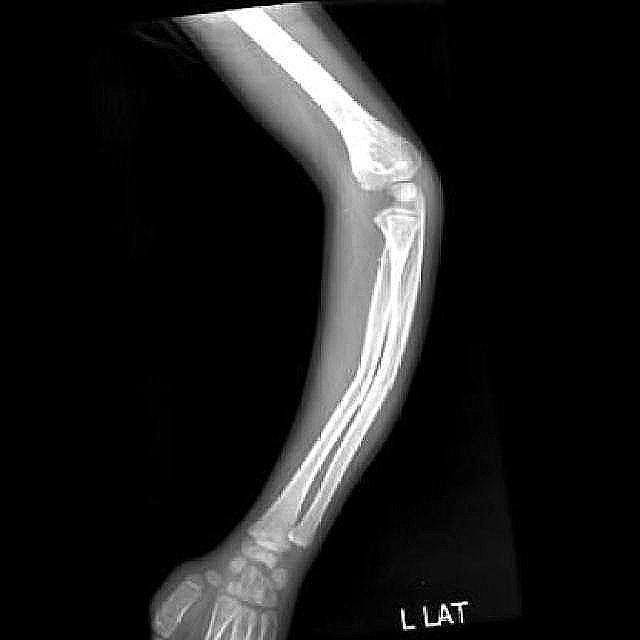bone: (350, 368, 376, 406), (374, 377, 391, 394), (394, 334, 402, 358)
